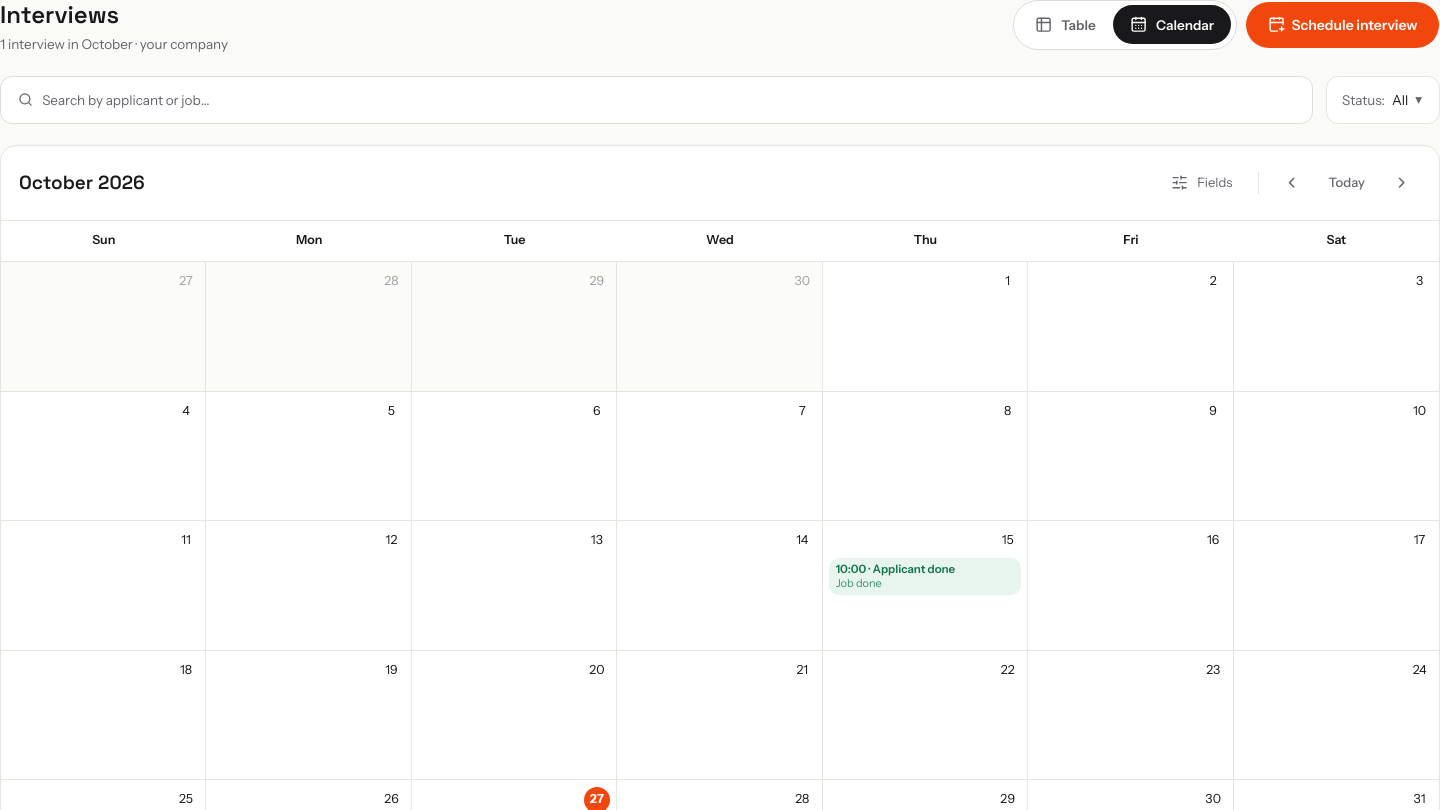
Scenario: Recruiter interviews calendar › offers no cancel on the summary of an interview that is no longer scheduled
Click the text "10:00 · Applicant done": (895, 569) [836,562,955,576]
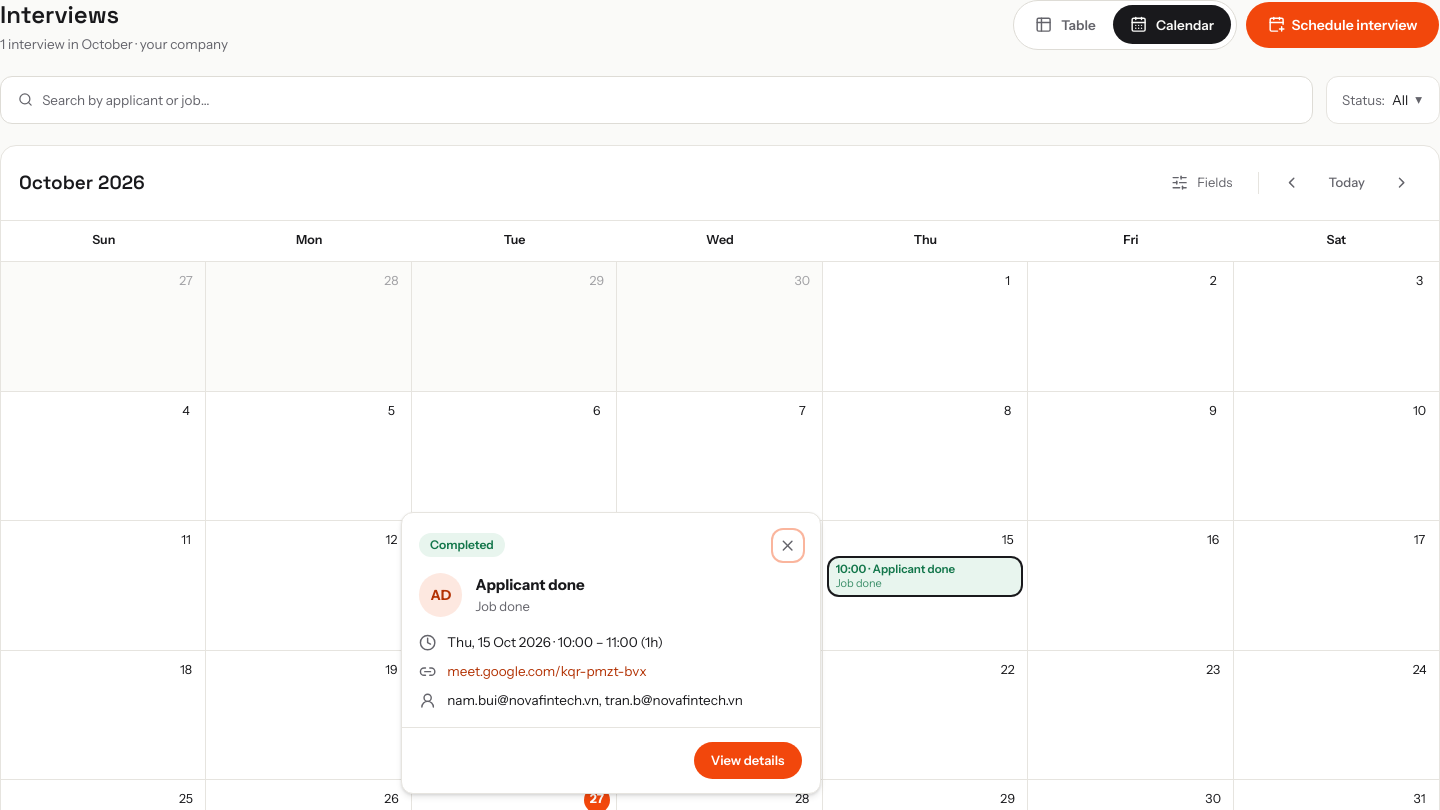
Expected: the link "View details" is shown, [692,741,803,780]
